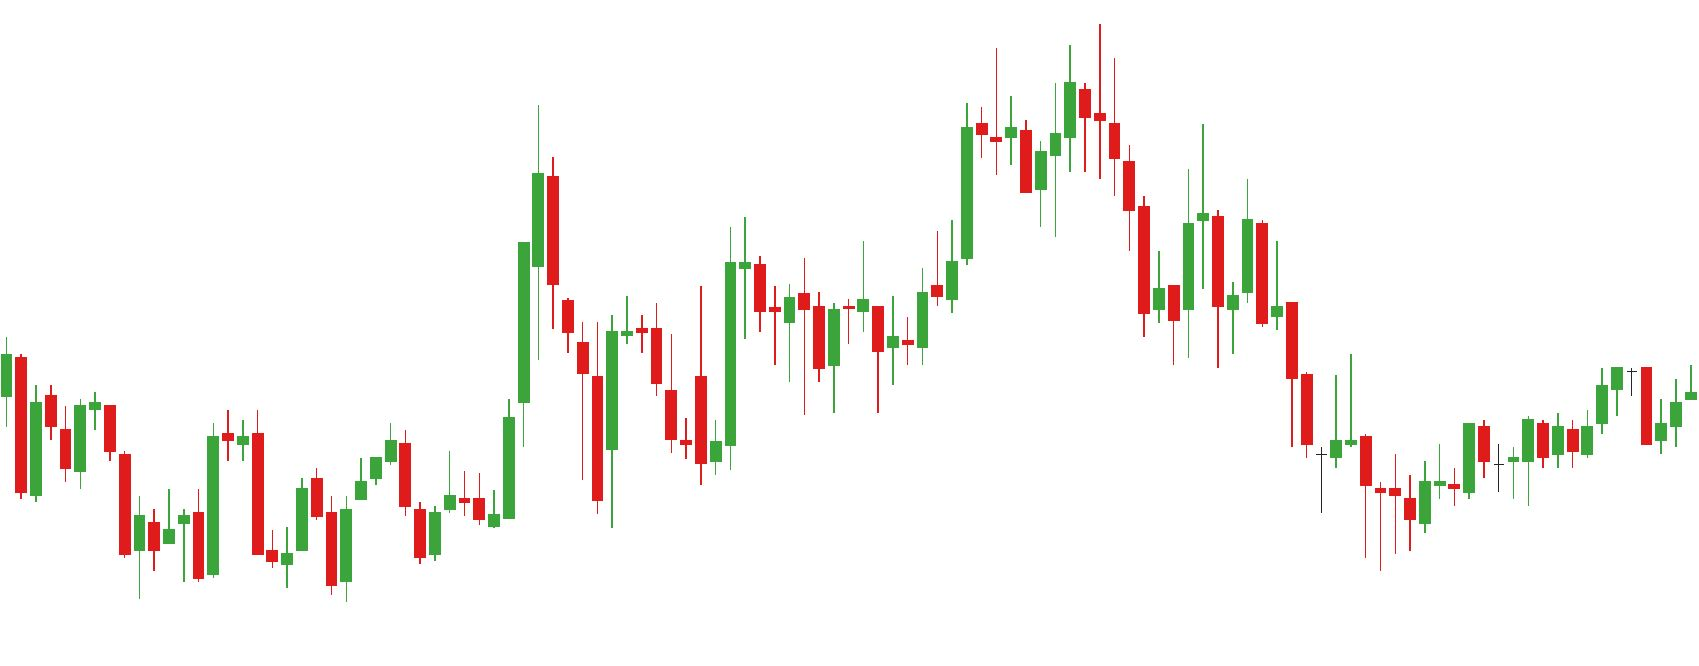buy: (176, 488, 291, 593)
sell: (991, 43, 1091, 193)
